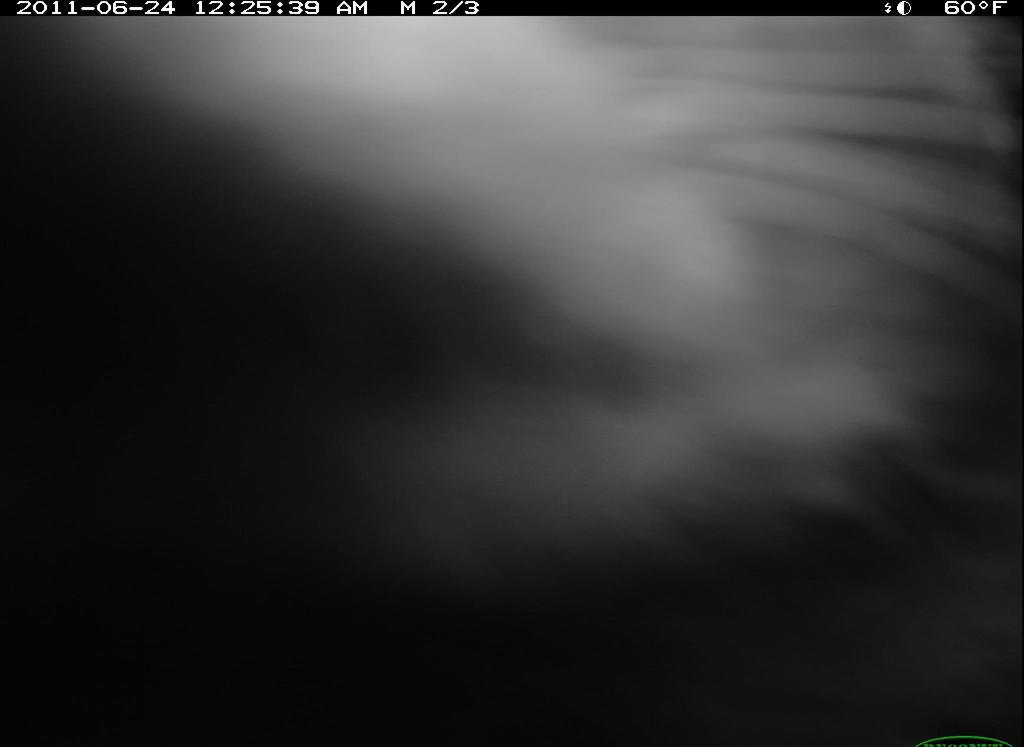raccoon: (4, 17, 1018, 555)
